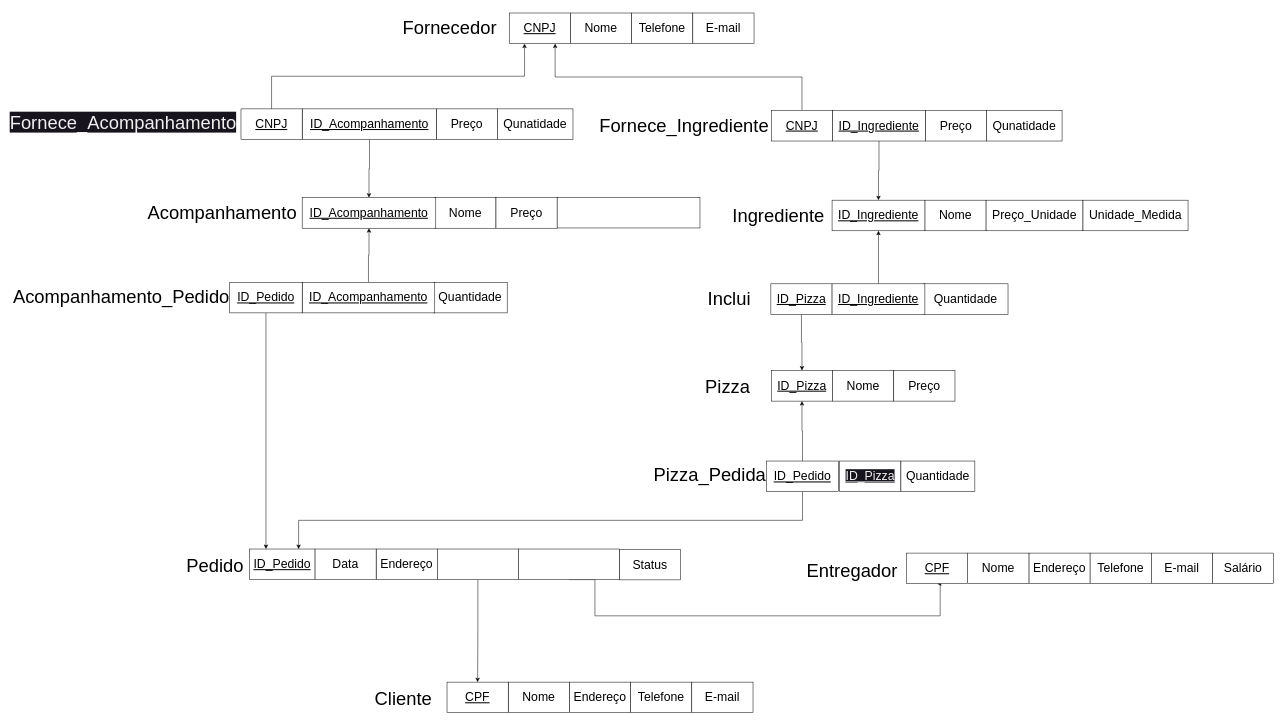
The diagram is 1283 pixels wide and 725 high, and some of its shapes have lost their labels. Here are the shapes that lost their labels. From the top down, the box of each, then its label:
(557, 197, 700, 228): Tipo_Acompanhamento
(437, 549, 518, 580): CPF_Cliente
(518, 549, 619, 580): CPF_Entregador
